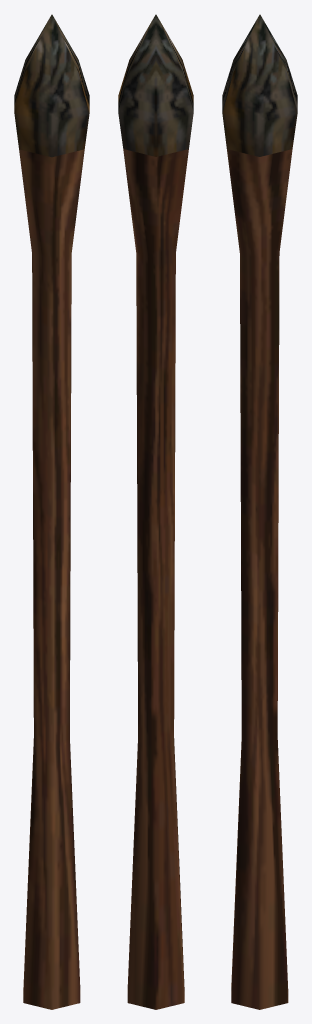
File: INST_OH_TORCH.fbx
3 views of the same model, side by side, from view 1: azimuth 30°, elevation 25°; view 2: azimuth 210°, elevation 25°; view 3: azimuth 270°, elevation 25° (orthographic).
Visible parts, largest first — view 1: INST_OH_TORCH; view 2: INST_OH_TORCH; view 3: INST_OH_TORCH.
Boxes of the visible parts, x1=… form: INST_OH_TORCH: x1=14, y1=14, x2=89, y2=1009; INST_OH_TORCH: x1=118, y1=14, x2=193, y2=1009; INST_OH_TORCH: x1=222, y1=14, x2=297, y2=1009.
Size of the model in its own units: 1144 by 14280 by 990.
Materials: 2 (2 with a texture image).
